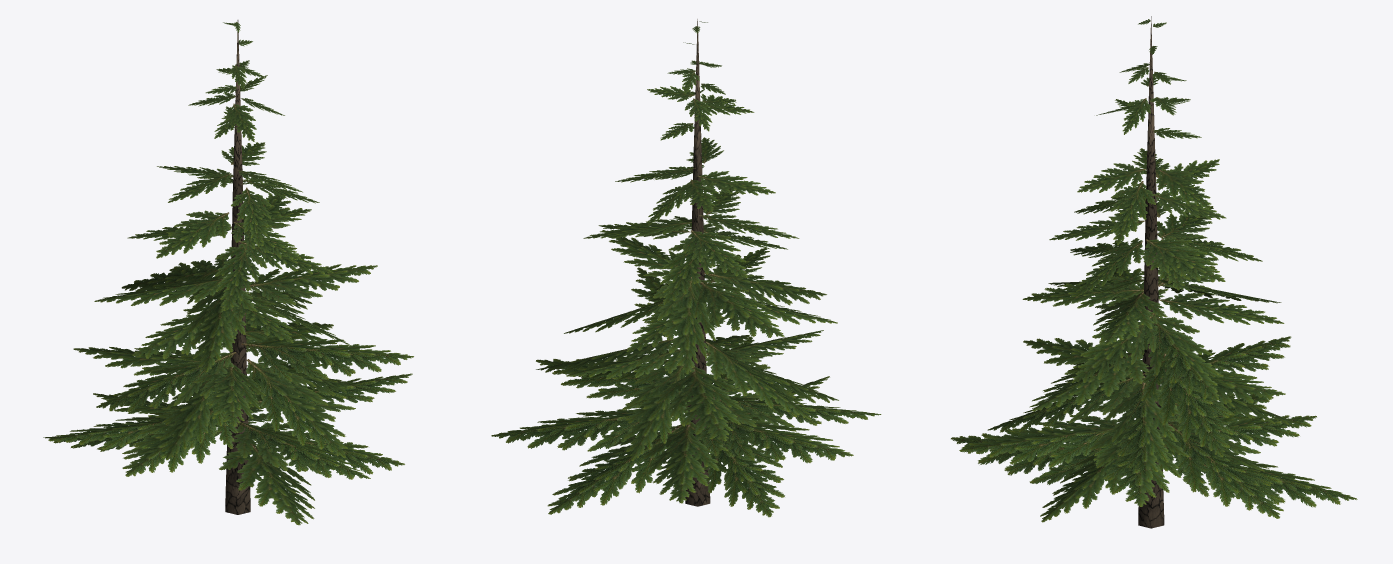
File: pine.glb
3 renders of one model, left to right at view 1: azimuth 30°, elevation 25°; view 2: azimuth 150°, elevation 25°; view 3: azimuth 270°, elevation 25°, orthographic. The views are drawn at different scales.
Visible parts, largest first — view 1: pine_foliage, pine_trunk; view 2: pine_foliage, pine_trunk; view 3: pine_foliage, pine_trunk.
Part boxes in pixels (box(x1,y1,x2,y2)): pine_foliage: box(43, 22, 413, 525); pine_trunk: box(225, 20, 250, 514); pine_foliage: box(491, 21, 881, 517); pine_trunk: box(685, 19, 710, 506); pine_foliage: box(951, 19, 1357, 522); pine_trunk: box(1138, 16, 1164, 528).
Bounding box in the file's own units: 4.7 × 5.95 × 4.79.
Materials: 2 (2 with a texture image).
